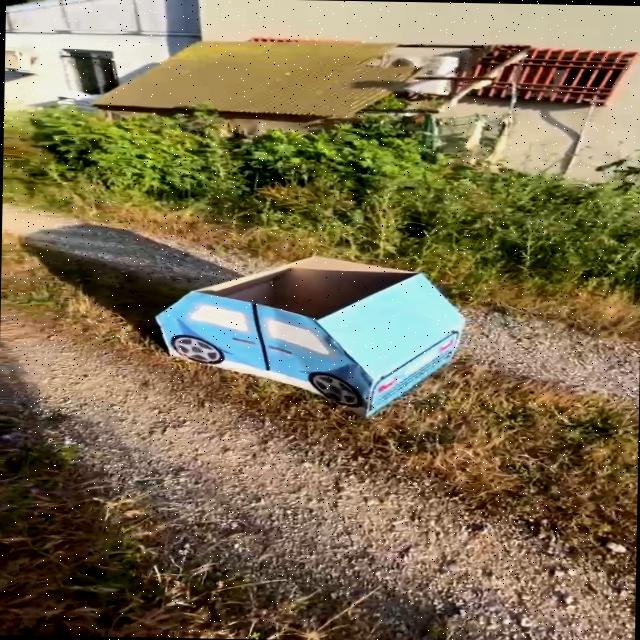blue_car: (101, 234, 514, 428)
